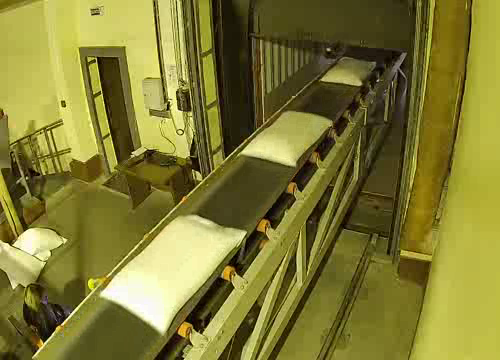bag: (92, 220, 254, 337), (231, 105, 348, 175), (317, 53, 381, 89)
